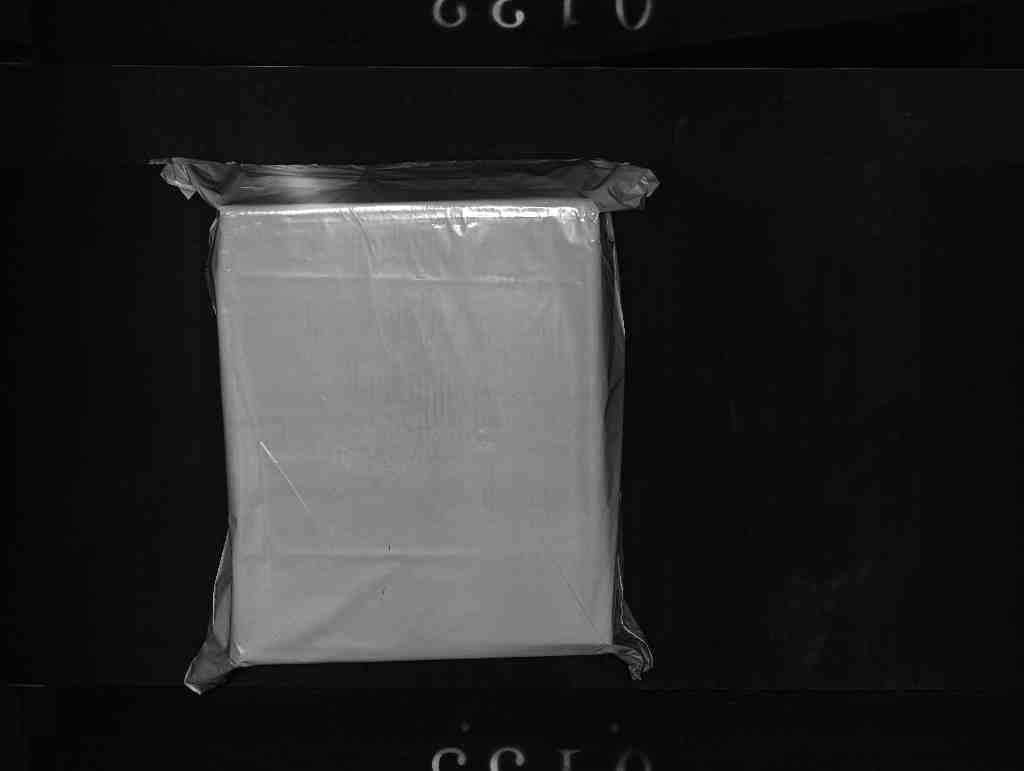box: (142, 136, 667, 708)
